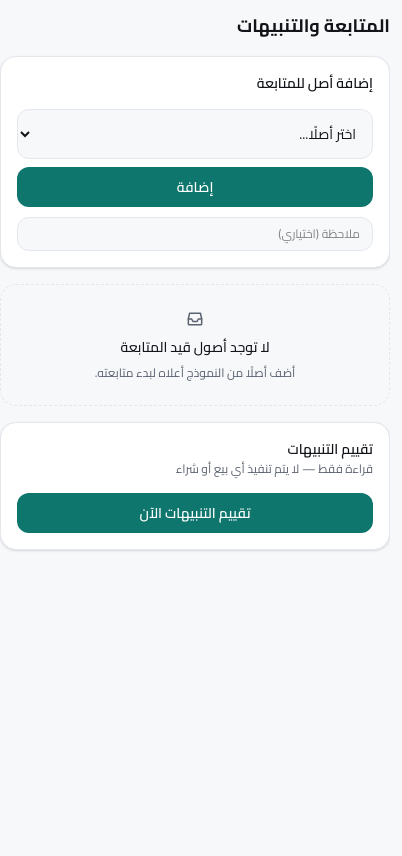
Test: WatchlistPage › adds an asset to the watchlist and shows it in the list
Expected: the text "لا توجد أصول قيد المتابعة" is shown, x1=120 y1=337 x2=270 y2=357
Step 1. Select "TMGH — TMG Holding" in the dropdown → (195, 134), box x1=17 y1=109 x2=373 y2=159
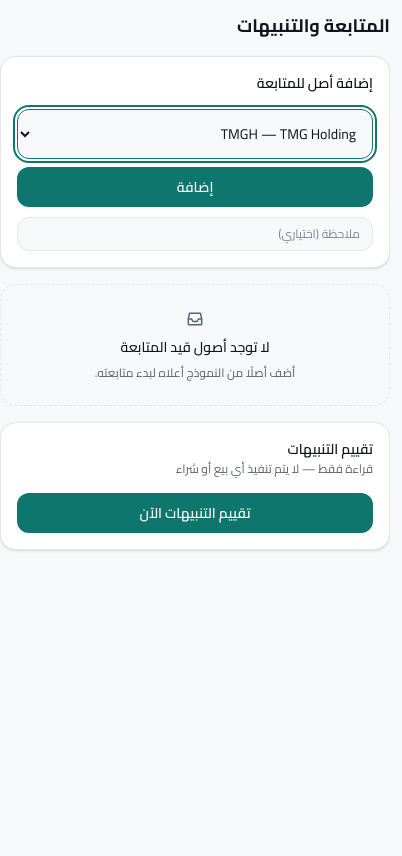
Step 2. Click the button "إضافة" → (195, 187), box x1=17 y1=167 x2=373 y2=207
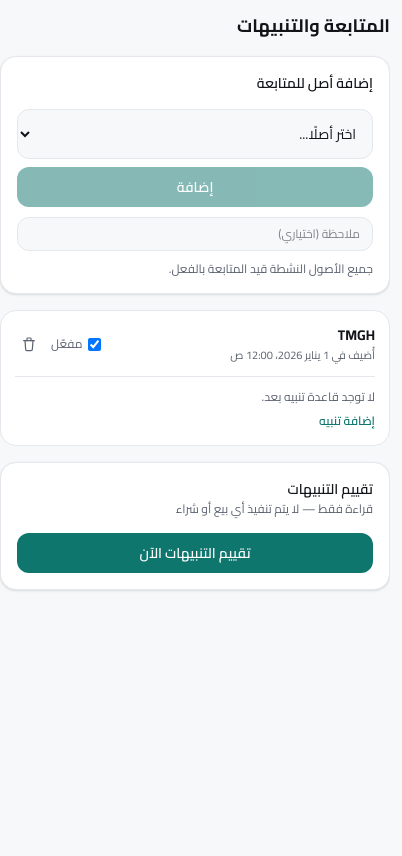
Now the text "TMGH" is shown, box x1=338 y1=322 x2=375 y2=348
